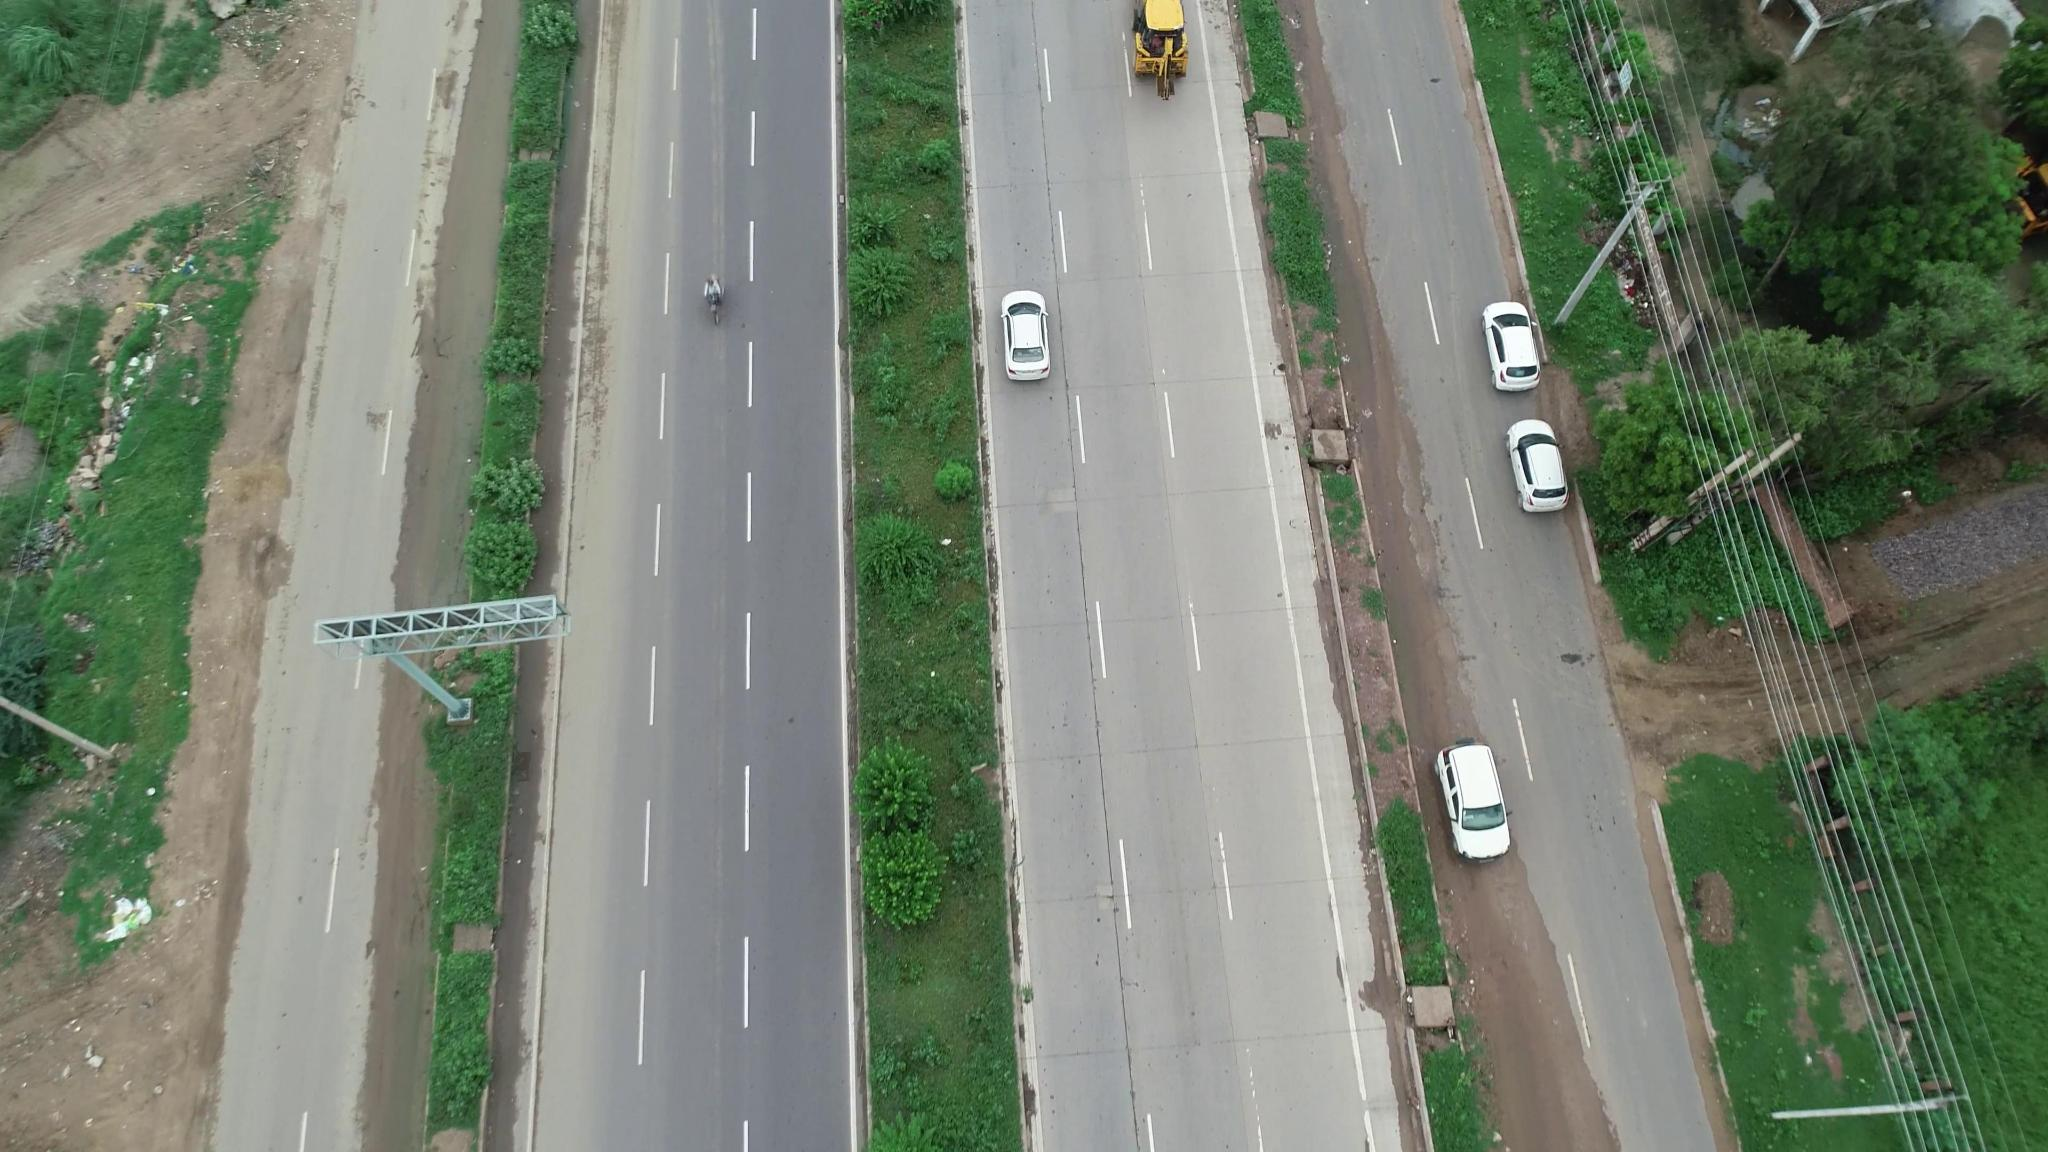Muddy_road: (1452, 907, 1633, 1146), (366, 335, 480, 617), (404, 75, 506, 318), (345, 916, 428, 1152), (1393, 582, 1485, 729)
